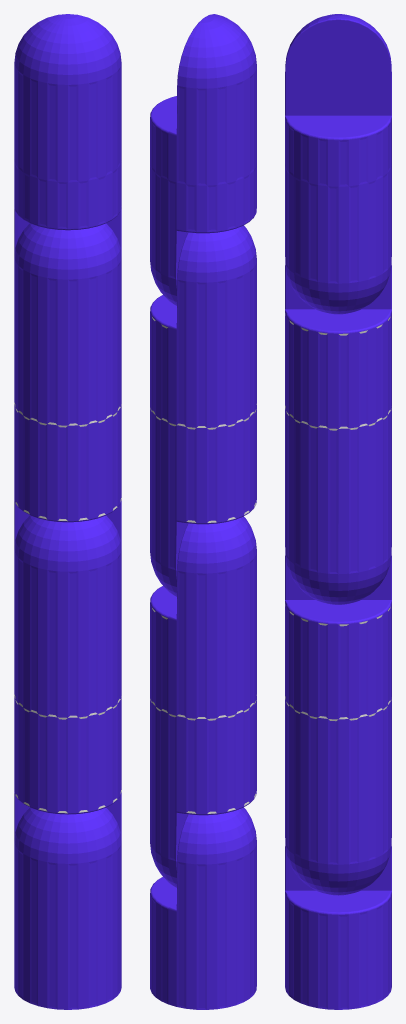
The model's file is Ramie.fbx.
3 views of the same model, side by side, from view 1: azimuth 90°, elevation 25°; view 2: azimuth 150°, elevation 25°; view 3: azimuth 270°, elevation 25° (orthographic).
Parts seen in each view (by area): view 1: przeglub.001, przeglub, przeglub koncowy, przeglub podstawowy; view 2: przeglub.001, przeglub, przeglub koncowy, przeglub podstawowy; view 3: przeglub, przeglub.001, przeglub koncowy, przeglub podstawowy.
Part boxes in pixels (x1,y1,x2,y2): przeglub.001: (14, 223, 121, 548); przeglub: (14, 515, 121, 840); przeglub koncowy: (14, 14, 121, 255); przeglub podstawowy: (14, 808, 121, 1009); przeglub.001: (150, 225, 256, 596); przeglub: (150, 516, 256, 887); przeglub koncowy: (150, 14, 256, 305); przeglub podstawowy: (150, 807, 256, 1009); przeglub: (285, 555, 391, 895); przeglub.001: (285, 264, 391, 604); przeglub koncowy: (285, 14, 391, 314); przeglub podstawowy: (285, 846, 391, 1009).
Size of the model in its own units: 8 by 79.96 by 8.
